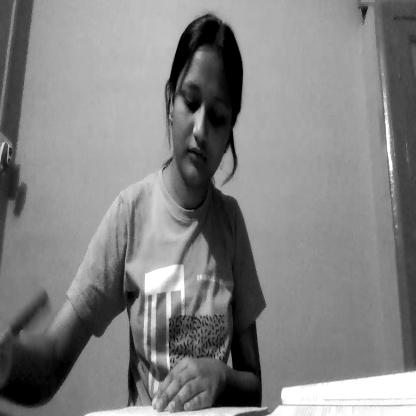Normal: (164, 19, 248, 206)
